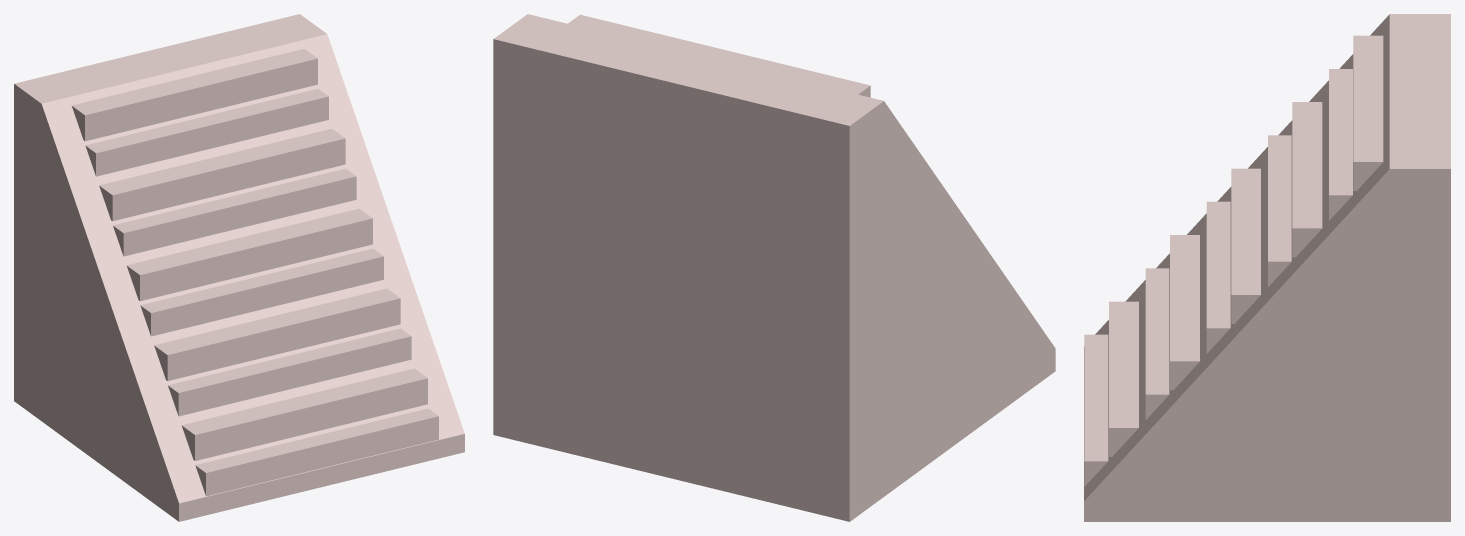
File: Staircase_full.fbx
3 renders of one model, left to right at view 1: azimuth 30°, elevation 25°; view 2: azimuth 150°, elevation 25°; view 3: azimuth 270°, elevation 25°, orthographic. The views are drawn at different scales.
Parts seen in each view (by area): view 1: Staircase_full; view 2: Staircase_full; view 3: Staircase_full.
Boxes of the visible parts, <box> form: Staircase_full: <box>14,14,464,521</box>; Staircase_full: <box>493,14,1055,521</box>; Staircase_full: <box>1084,14,1450,521</box>.
Size of the model in its own units: 300 by 319 by 300.
